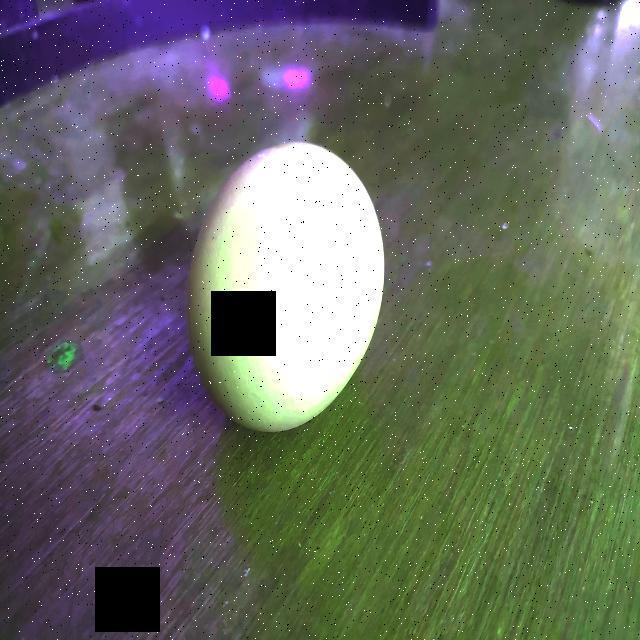egg: (184, 136, 387, 432)
